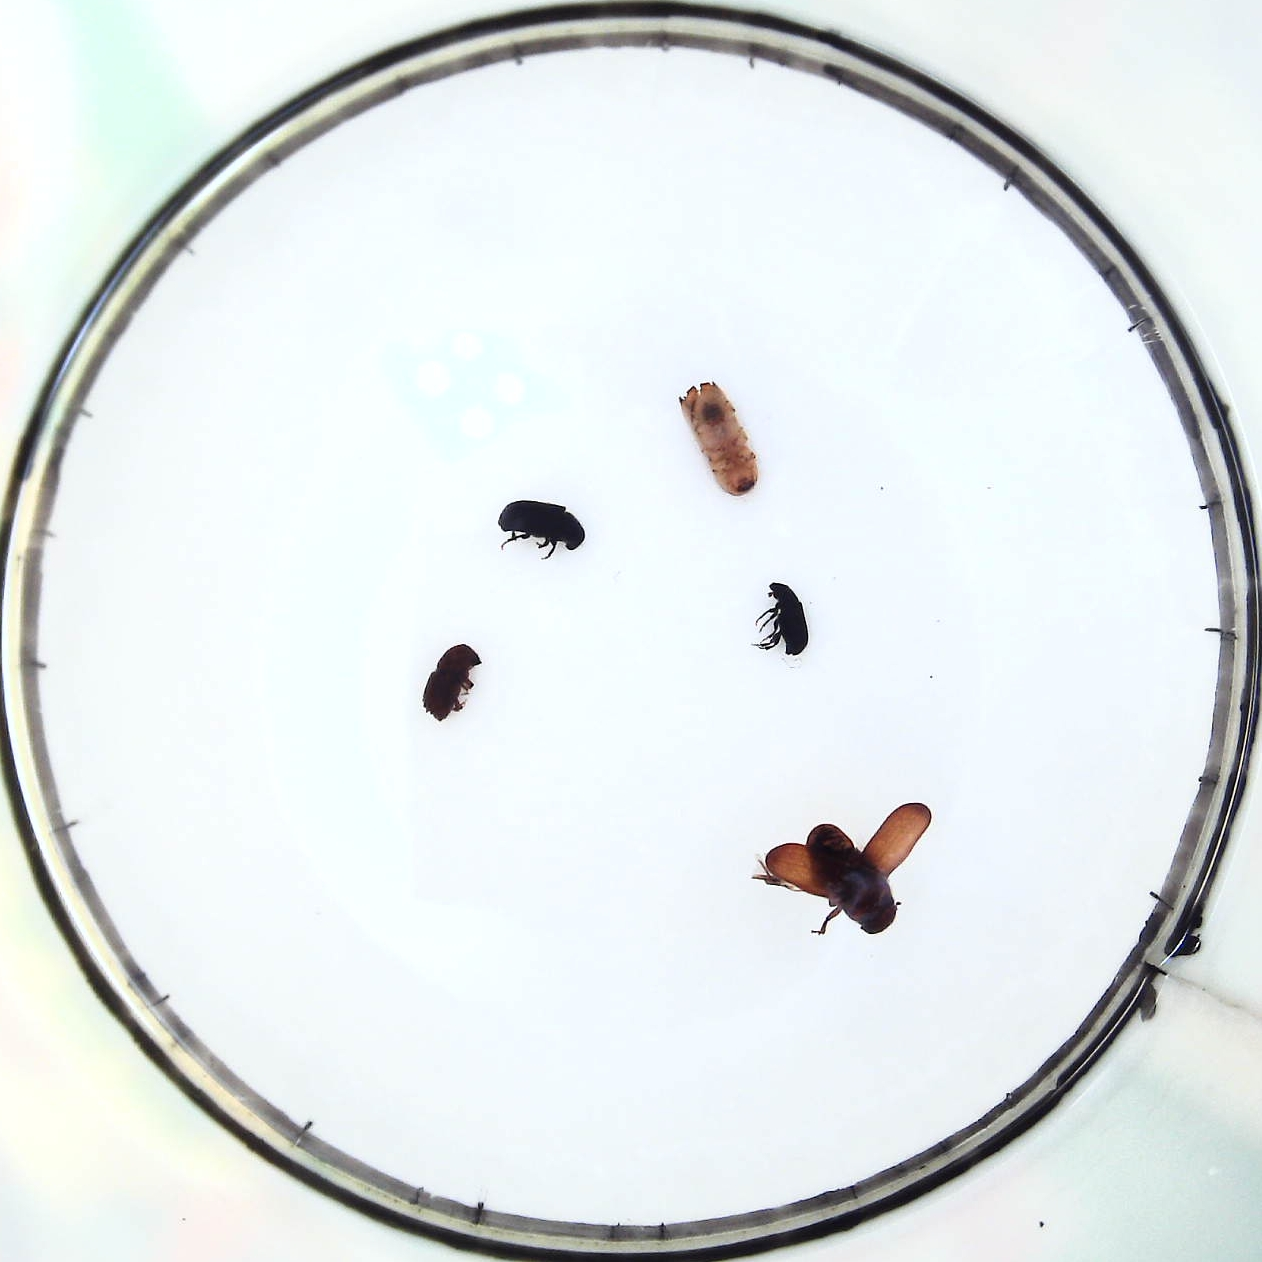Boerner: (675, 376, 760, 499)
Leconte: (757, 803, 931, 942)
Linnaeus: (424, 644, 482, 726)
armandi: (495, 497, 587, 561)
coleoptera: (758, 576, 809, 656)
